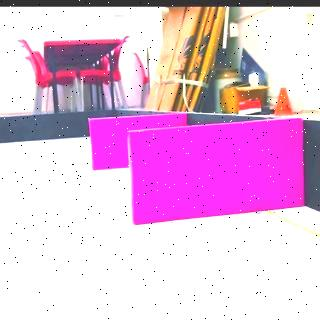xparking: (130, 130, 304, 218), (91, 118, 127, 166)
